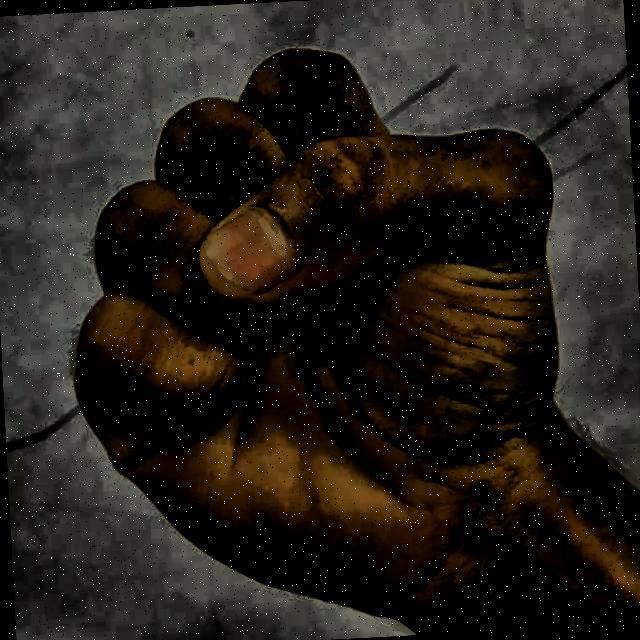Sha: (14, 10, 601, 640)
